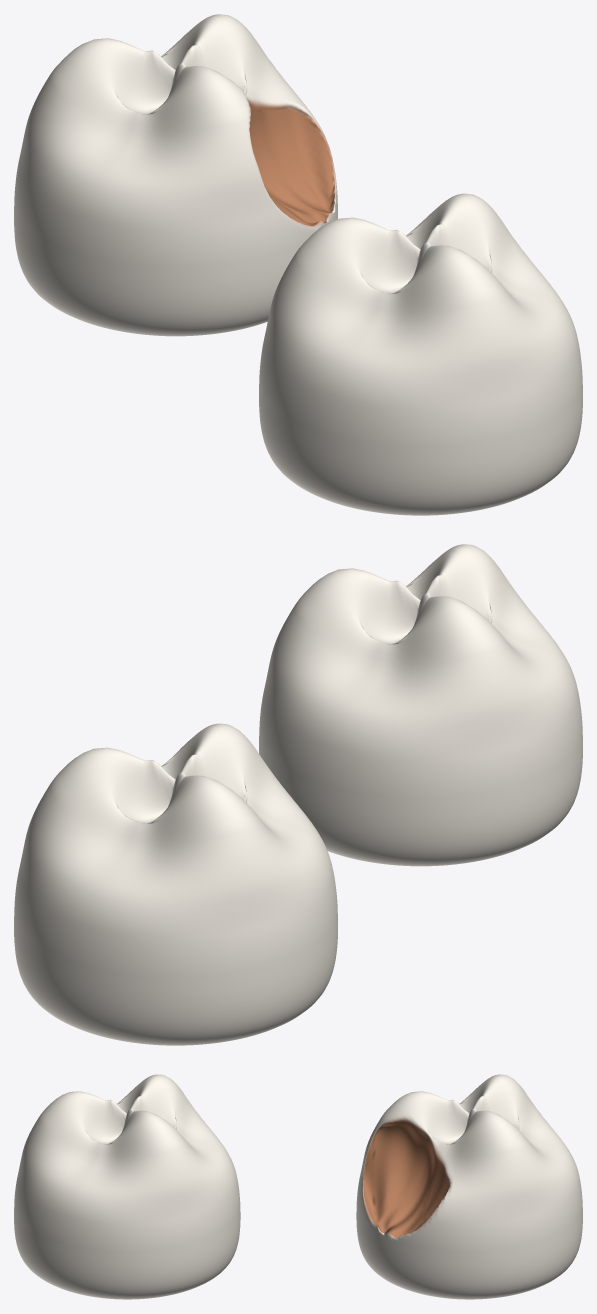
The model's file is bao.glb.
3 renders of one model, top to bottom at view 1: azimuth 30°, elevation 25°; view 2: azimuth 150°, elevation 25°; view 3: azimuth 270°, elevation 25°, orthographic. The views are drawn at different scales.
Visible parts, largest first — view 1: BaoBody, BaoBitten; view 2: BaoBitten, BaoBody; view 3: BaoBitten, BaoBody.
Part boxes in pixels (bbox=[...]): BaoBody: bbox=[259, 193, 582, 515]; BaoBitten: bbox=[14, 14, 337, 336]; BaoBitten: bbox=[14, 723, 337, 1045]; BaoBody: bbox=[259, 544, 582, 866]; BaoBitten: bbox=[356, 1074, 582, 1299]; BaoBody: bbox=[14, 1074, 240, 1299].
Size of the model in its own units: 0.6613 by 0.5568 by 1.66.
